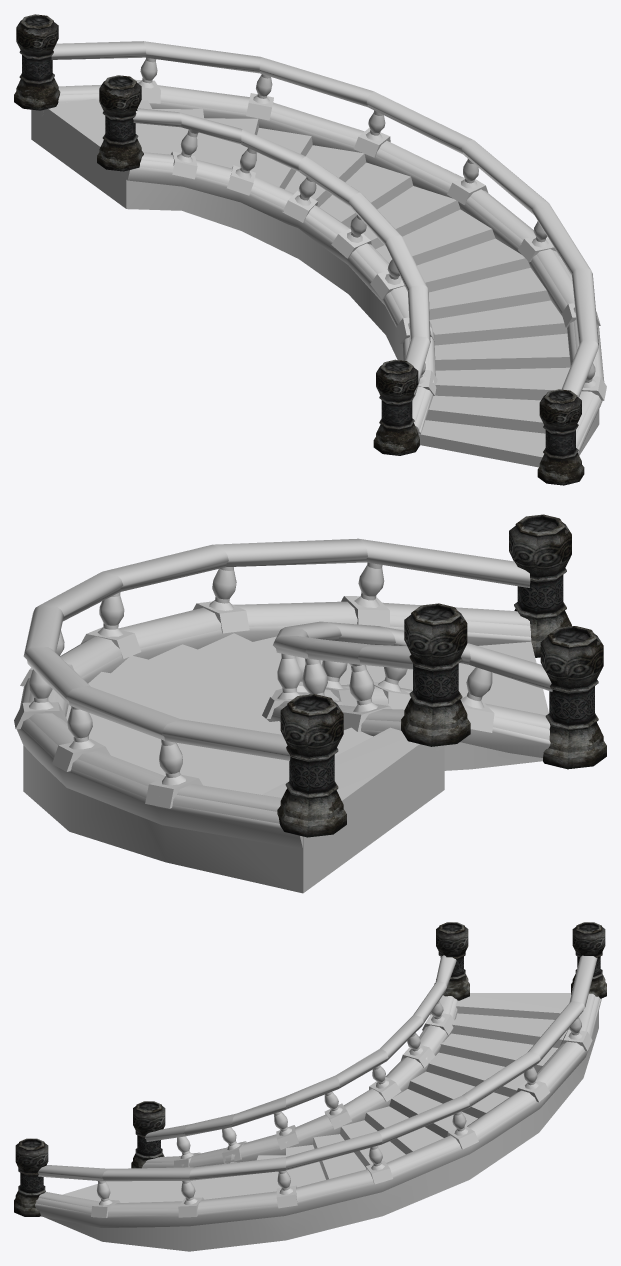
The model's file is round_floating_right.dae.
The picture shows the model from 3 angles, top to bottom: view 1: azimuth 30°, elevation 25°; view 2: azimuth 150°, elevation 25°; view 3: azimuth 270°, elevation 25°; orthographic projection. The views are drawn at different scales.
Visible parts, largest first — view 1: polySurface114, polySurface113, polySurface112; view 2: polySurface113, polySurface114, polySurface112; view 3: polySurface113, polySurface114, polySurface112.
Part boxes in pixels (x1=…): polySurface114: x1=31, y1=99, x2=599, y2=467; polySurface113: x1=41, y1=41, x2=606, y2=453; polySurface112: x1=14, y1=14, x2=584, y2=485; polySurface113: x1=14, y1=538, x2=552, y2=848; polySurface114: x1=23, y1=633, x2=548, y2=893; polySurface112: x1=277, y1=514, x2=606, y2=837; polySurface113: x1=35, y1=955, x2=601, y2=1227; polySurface114: x1=44, y1=993, x2=598, y2=1251; polySurface112: x1=14, y1=922, x2=606, y2=1216.
Size of what is drawn, in the model's own units: 859 by 593 by 1517.
